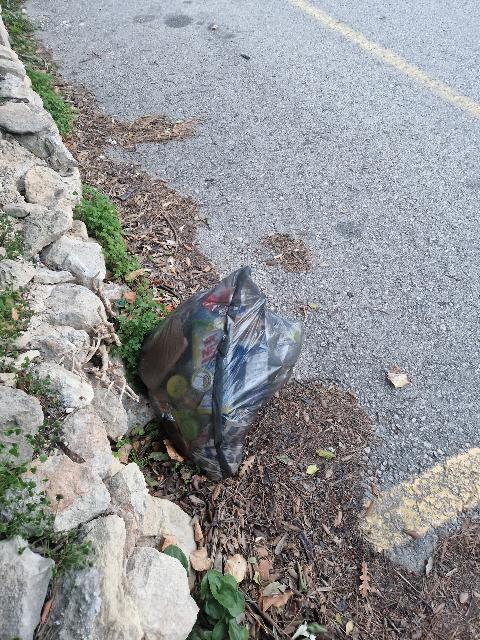Recyclable -Grey-: (138, 267, 303, 480)
